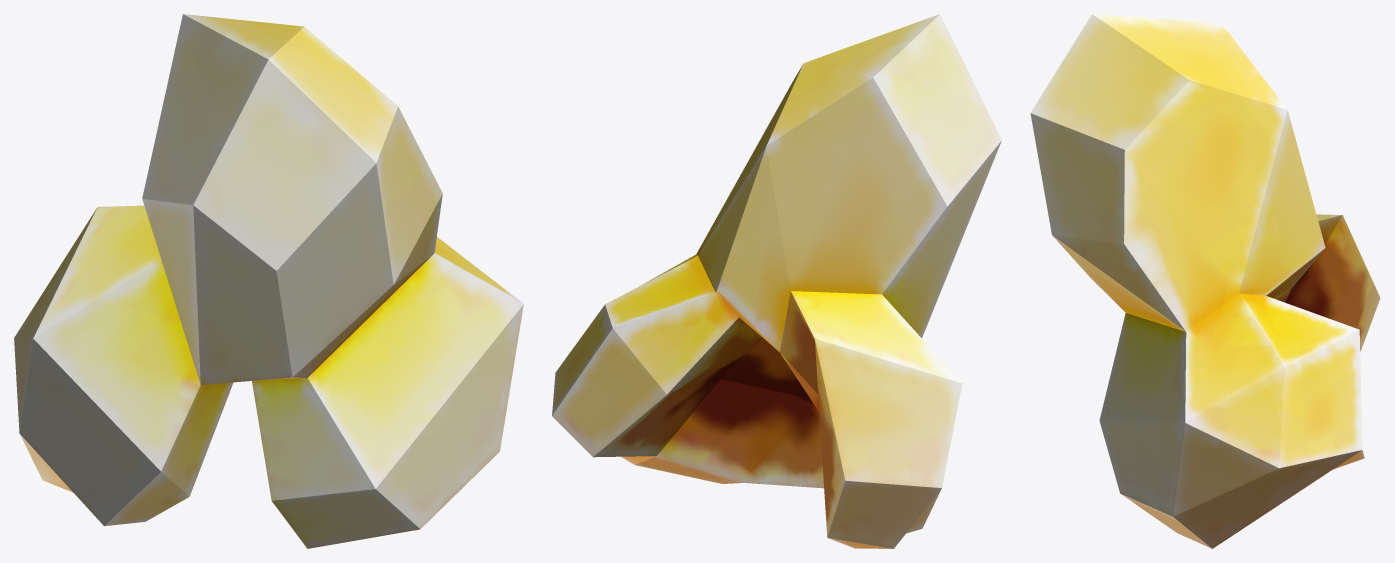
Rendered from popcorn.glb.
3 renders of one model, left to right at view 1: azimuth 30°, elevation 25°; view 2: azimuth 150°, elevation 25°; view 3: azimuth 270°, elevation 25°, orthographic. The views are drawn at different scales.
Visible parts, largest first — view 1: Popcorn; view 2: Popcorn; view 3: Popcorn.
Boxes of the visible parts, bbox=[...] form: Popcorn: bbox=[14, 14, 523, 548]; Popcorn: bbox=[552, 14, 1001, 548]; Popcorn: bbox=[1030, 14, 1380, 548].
Size of the model in its own units: 0.4778 by 0.5527 by 0.3969.
1 material, 1 textured.
